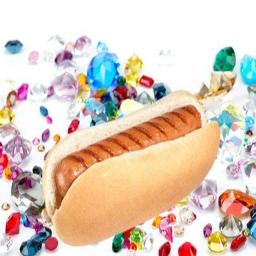hotdog: (44, 85, 226, 245)
